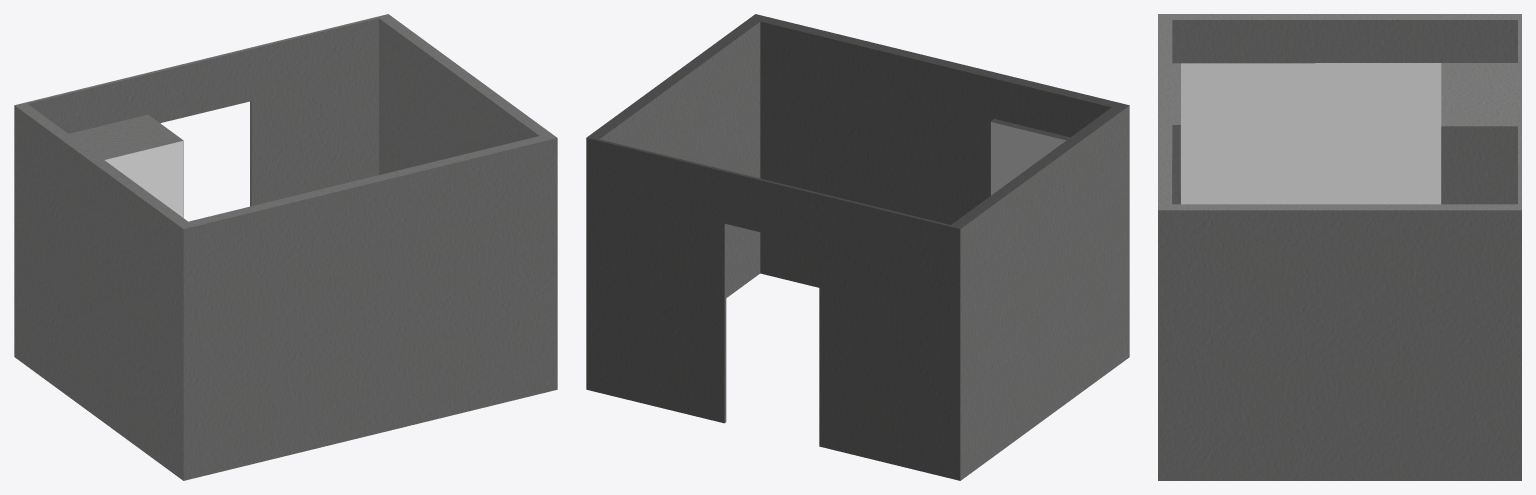
File: Walls_952ee7f1.obj
3 views of the same model, side by side, from view 1: azimuth 30°, elevation 25°; view 2: azimuth 150°, elevation 25°; view 3: azimuth 270°, elevation 25° (orthographic). The views are drawn at different scales.
Visible parts, largest first — view 1: Walls_952ee7f1; view 2: Walls_952ee7f1; view 3: Walls_952ee7f1.
Boxes of the visible parts, bbox=[...] form: Walls_952ee7f1: bbox=[14, 14, 557, 480]; Walls_952ee7f1: bbox=[586, 14, 1129, 480]; Walls_952ee7f1: bbox=[1158, 14, 1521, 480].
Bounding box in the file's own units: 3.59 × 2.31 × 2.81.
